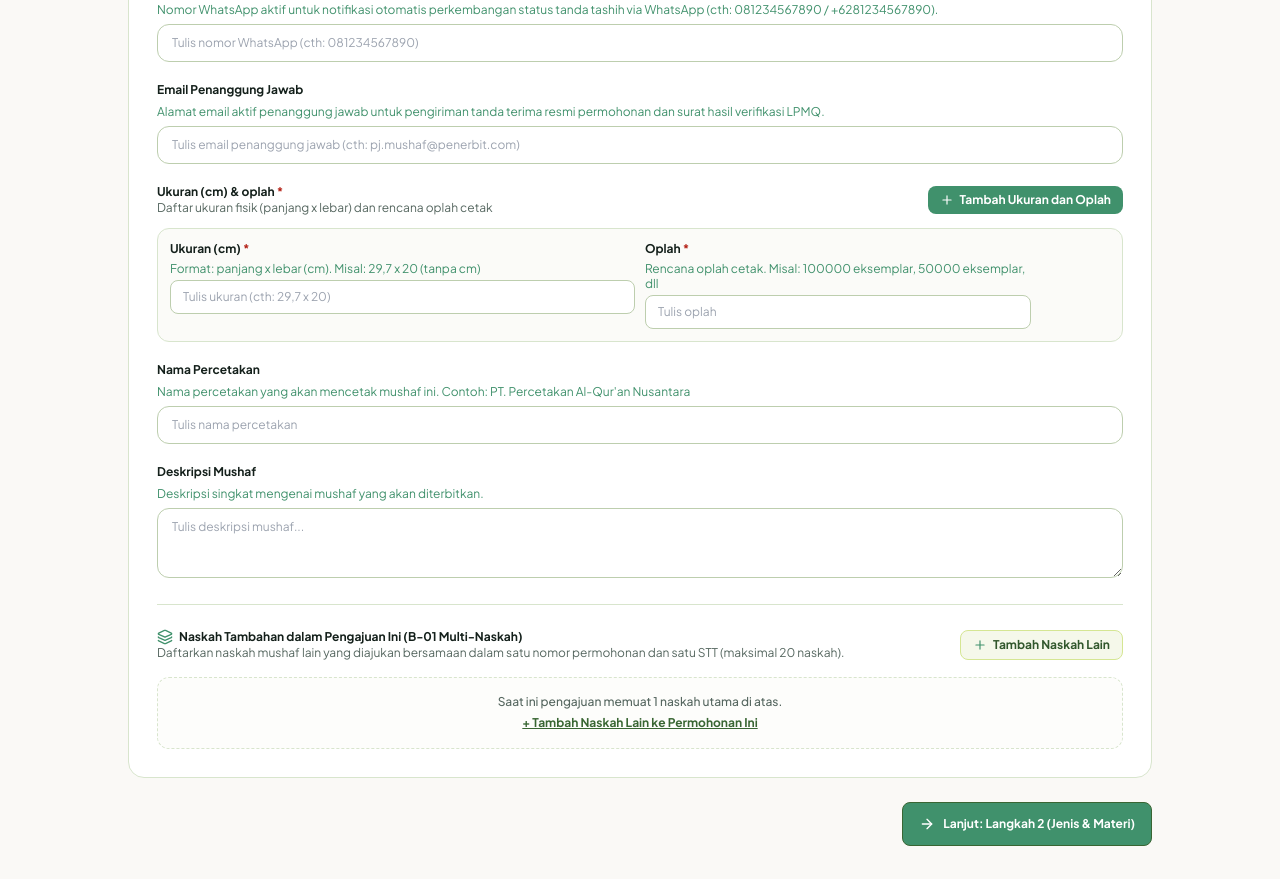
Test: NewRegistration Stepper and Enhancements › validates Step 1 before advancing to Step 2
The width and height of the screenshot is (1280, 879).
(page scrolled)
Click the button "Lanjut: Langkah 2 (Jenis & Materi)" at (1027, 824), box 902,802 -> 1152,846
(page scrolled)
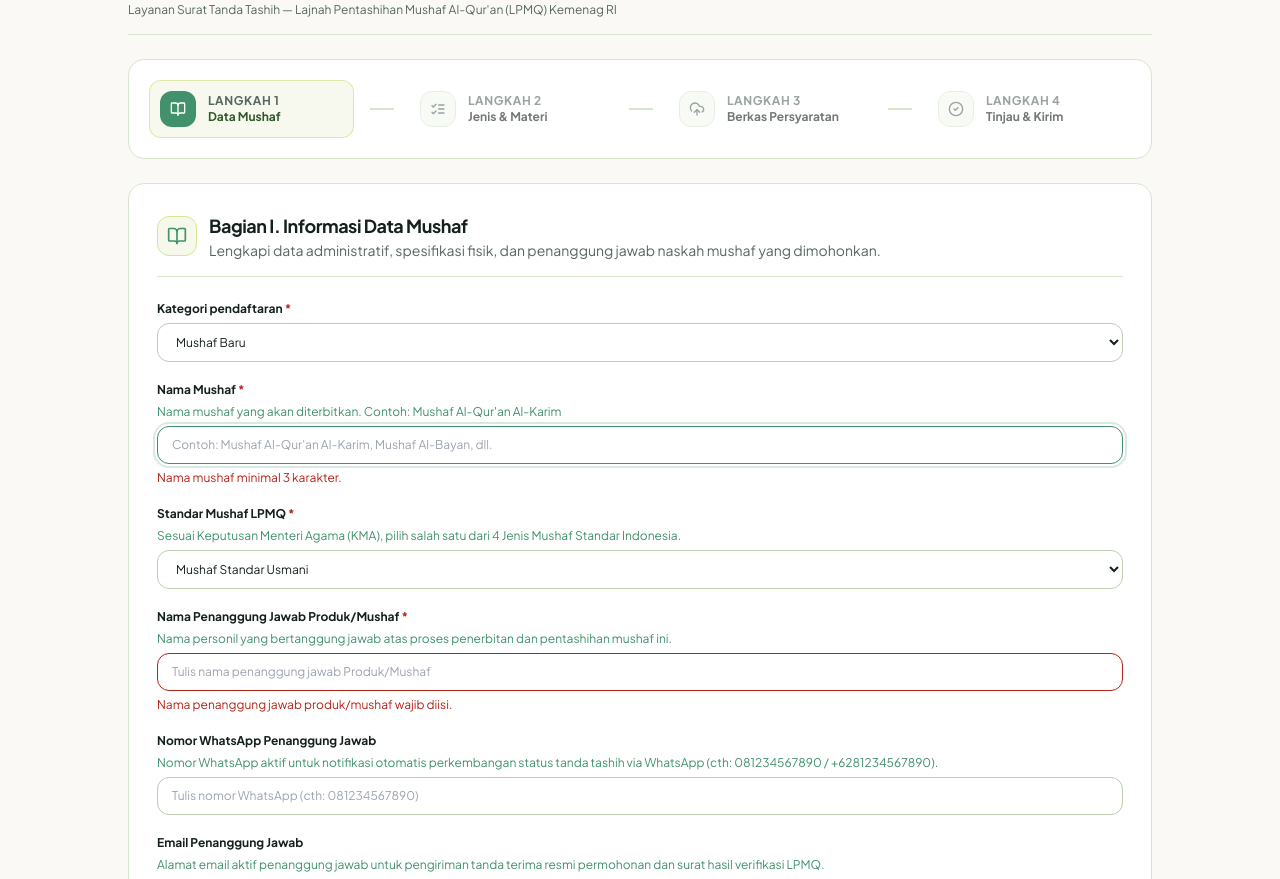
Result: the text "Nama mushaf minimal 3 karakter." is shown at 157,470 -> 342,485
Result: the text "Nama penanggung jawab produk/mushaf wajib diisi." is shown at 157,697 -> 452,712
